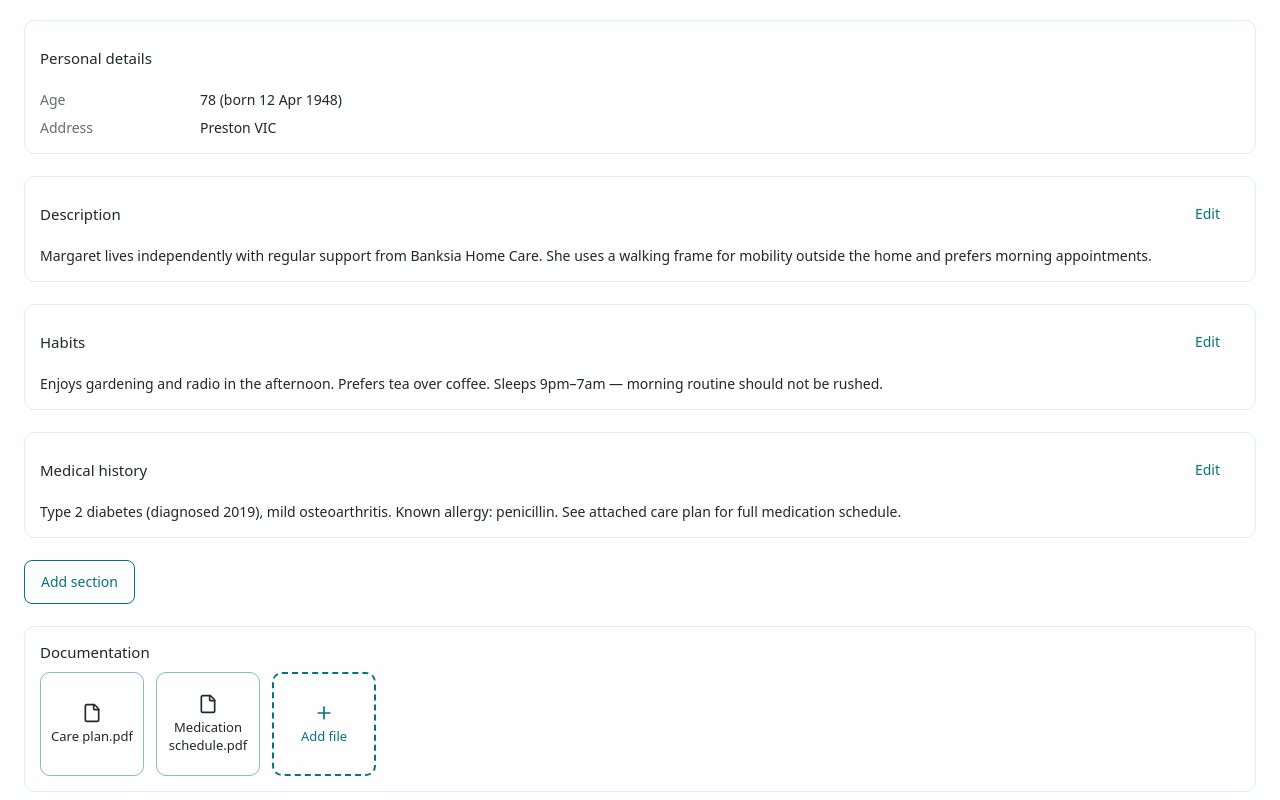
Scenario: [FAM-UI-04] inline edit (PROPOSED interaction, PRD Scope) › [FAM-UI-04][PRD] Save shows the edited text in place of the textarea, and focus returns to Edit
Click the button with aria-label "Edit Habits" at x=1207, y=342, box [1175, 320, 1240, 364]
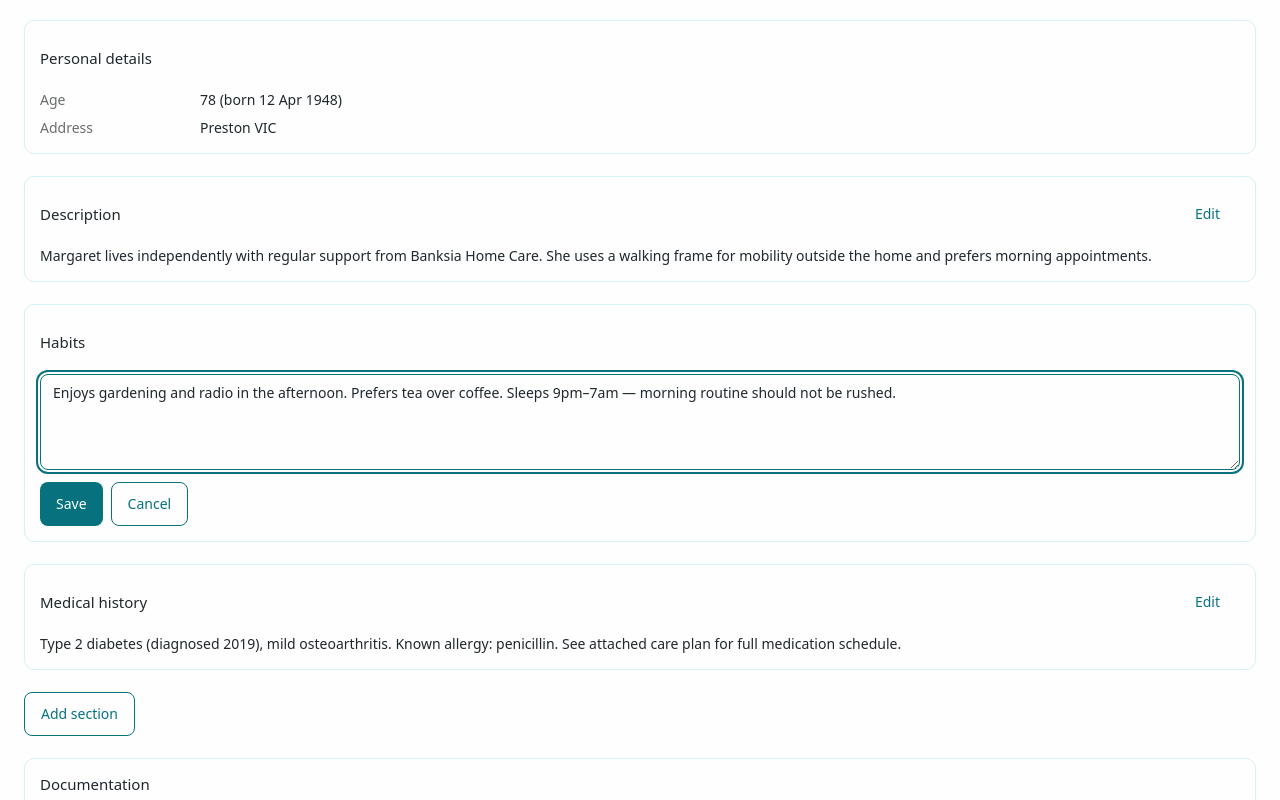
Replace the text in the text box with "Likes a nap after lunch." at x=640, y=422, box [40, 374, 1240, 470]
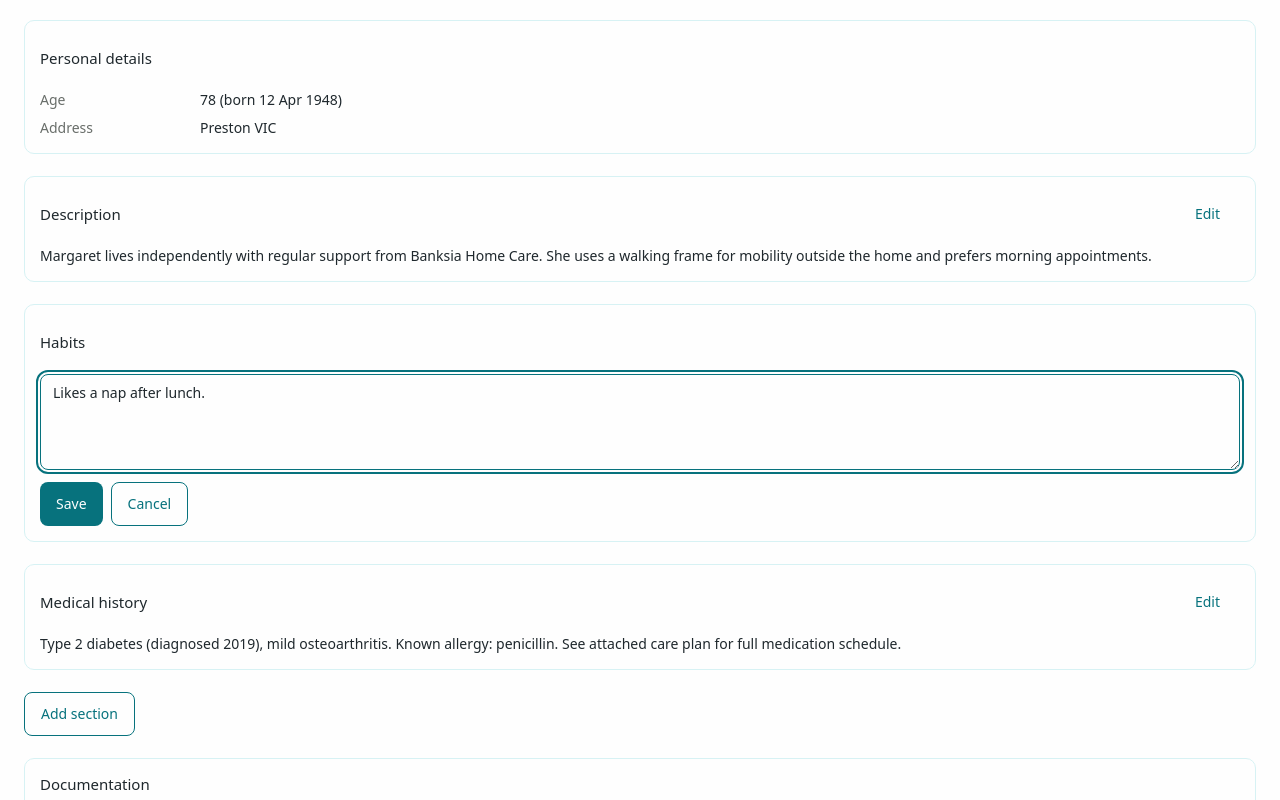
Click the button "Save" at x=71, y=504, box [40, 482, 103, 526]
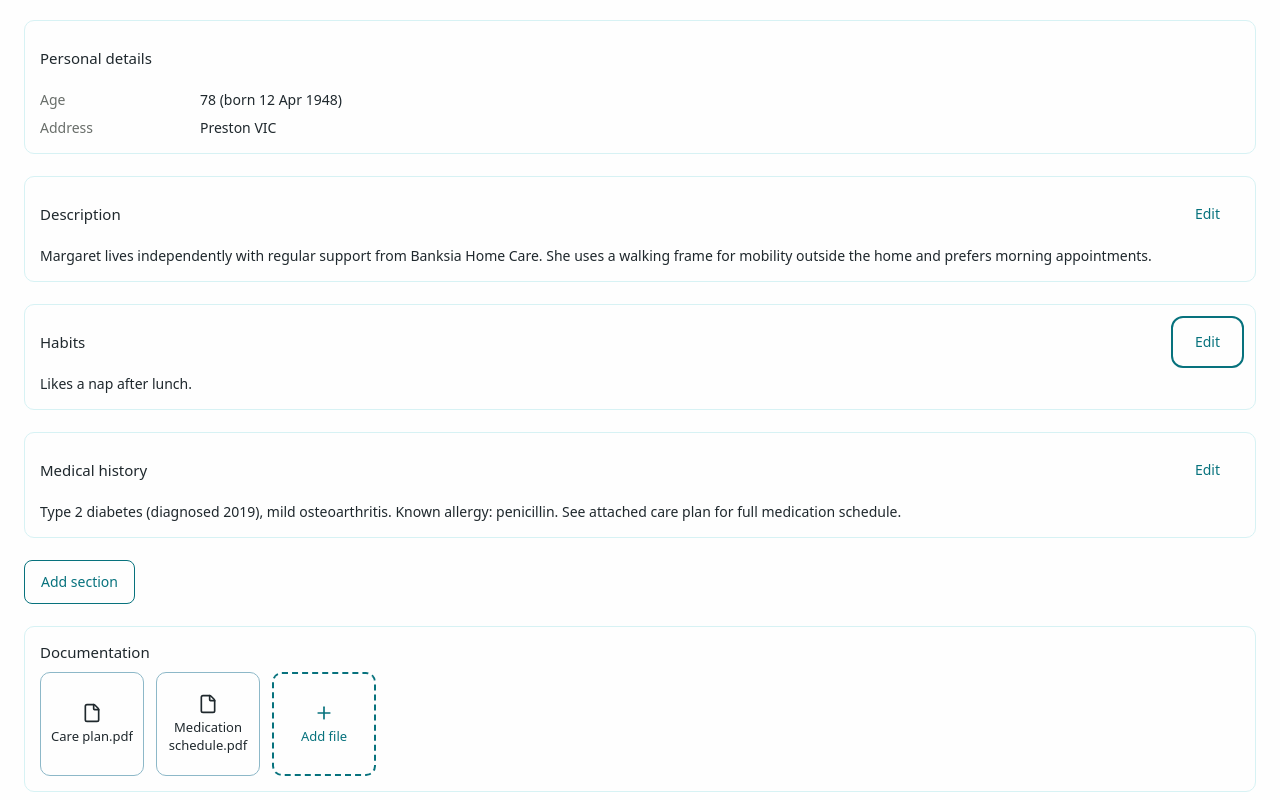
expect the text "Likes a nap after lunch." is shown: met, box [40, 374, 192, 393]
expect the button "Save" is gone: met
